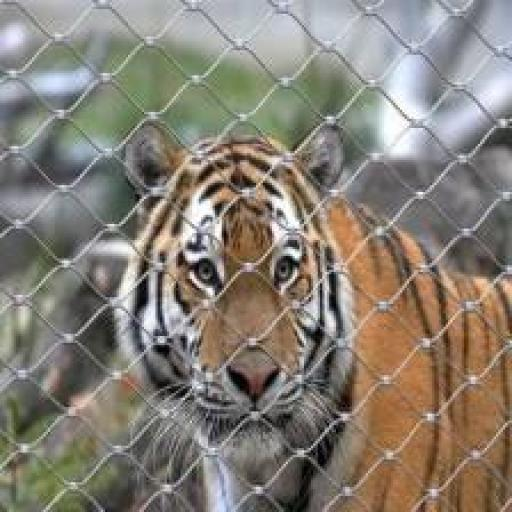Tiger: (39, 73, 512, 512)
